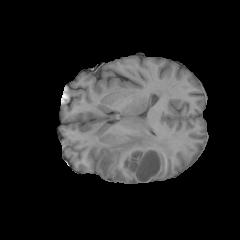glioma: (97, 130, 177, 182)
